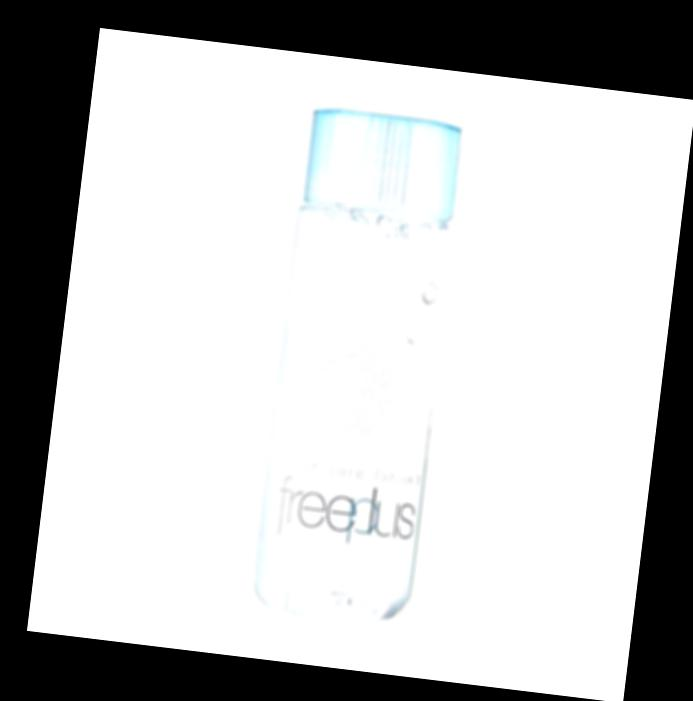cosmetic: (253, 111, 468, 629)
